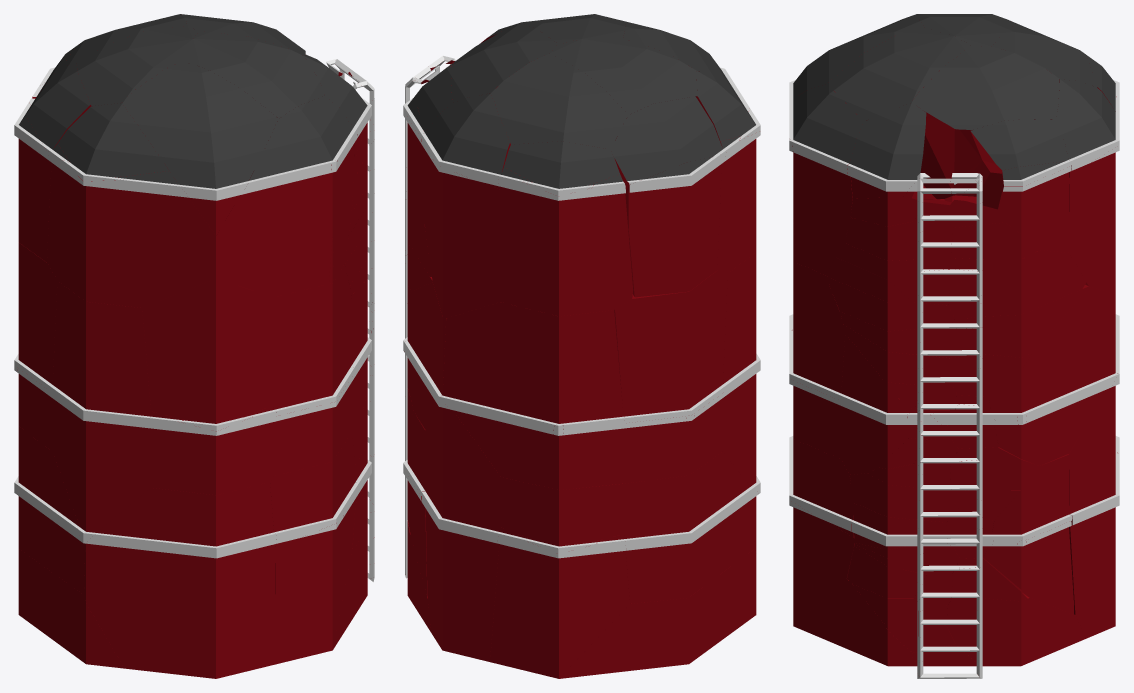
File: siloBroken.fbx
3 renders of one model, left to right at view 1: azimuth 30°, elevation 25°; view 2: azimuth 150°, elevation 25°; view 3: azimuth 270°, elevation 25°, orthographic.
Visible parts, largest first — view 1: silo_cell.075, silo_cell.028, silo_cell.022, silo_cell.090, silo_cell.016, silo_cell.076, silo_cell.053, silo_cell.061, silo_cell.081, silo_cell.041, silo_cell.097, silo_cell.025 (+15 smaller); view 2: silo_cell.011, silo_cell.046, silo_cell.054, silo_cell.059, silo_cell.041, silo_cell.044, silo_cell.068, silo_cell.025, silo_cell.073, silo_cell.069, silo_cell.071, silo_cell.028 (+18 smaller); view 3: silo_cell.089, silo_cell.045, silo_cell.022, silo_cell.054, silo_cell.097, silo_cell.077, silo_cell.092, silo_cell.080, silo_cell.053, silo_cell.103, silo_cell.073, silo_cell.095 (+51 smaller).
Part boxes in pixels (x1,y1,x2,y2): silo_cell.075: [84, 482, 276, 678]; silo_cell.028: [49, 281, 150, 543]; silo_cell.022: [216, 95, 357, 297]; silo_cell.090: [47, 144, 215, 307]; silo_cell.016: [142, 278, 273, 431]; silo_cell.076: [122, 61, 278, 235]; silo_cell.053: [273, 265, 354, 415]; silo_cell.061: [275, 500, 355, 664]; silo_cell.081: [150, 405, 276, 494]; silo_cell.041: [14, 426, 85, 594]; silo_cell.097: [182, 31, 325, 118]; silo_cell.025: [18, 549, 124, 668]; silo_cell.011: [440, 302, 624, 490]; silo_cell.046: [498, 167, 633, 316]; silo_cell.054: [421, 396, 500, 661]; silo_cell.059: [490, 527, 629, 678]; silo_cell.041: [624, 452, 758, 603]; silo_cell.044: [614, 270, 727, 423]; silo_cell.068: [625, 154, 725, 297]; silo_cell.025: [558, 549, 756, 678]; silo_cell.073: [425, 151, 499, 318]; silo_cell.069: [491, 53, 628, 149]; silo_cell.071: [500, 477, 623, 553]; silo_cell.028: [722, 253, 760, 493]; silo_cell.089: [988, 287, 1118, 465]; silo_cell.045: [911, 46, 1059, 196]; silo_cell.022: [789, 84, 935, 274]; silo_cell.054: [1068, 373, 1119, 638]; silo_cell.097: [827, 28, 971, 199]; silo_cell.077: [946, 593, 1085, 666]; silo_cell.092: [838, 334, 909, 474]; silo_cell.080: [847, 103, 926, 198]; silo_cell.053: [789, 261, 845, 399]; silo_cell.103: [944, 195, 1086, 316]; silo_cell.073: [973, 145, 1119, 294]; silo_cell.095: [983, 521, 1073, 614].
Bounding box in the file's own units: 1823 × 3212 × 1705.
